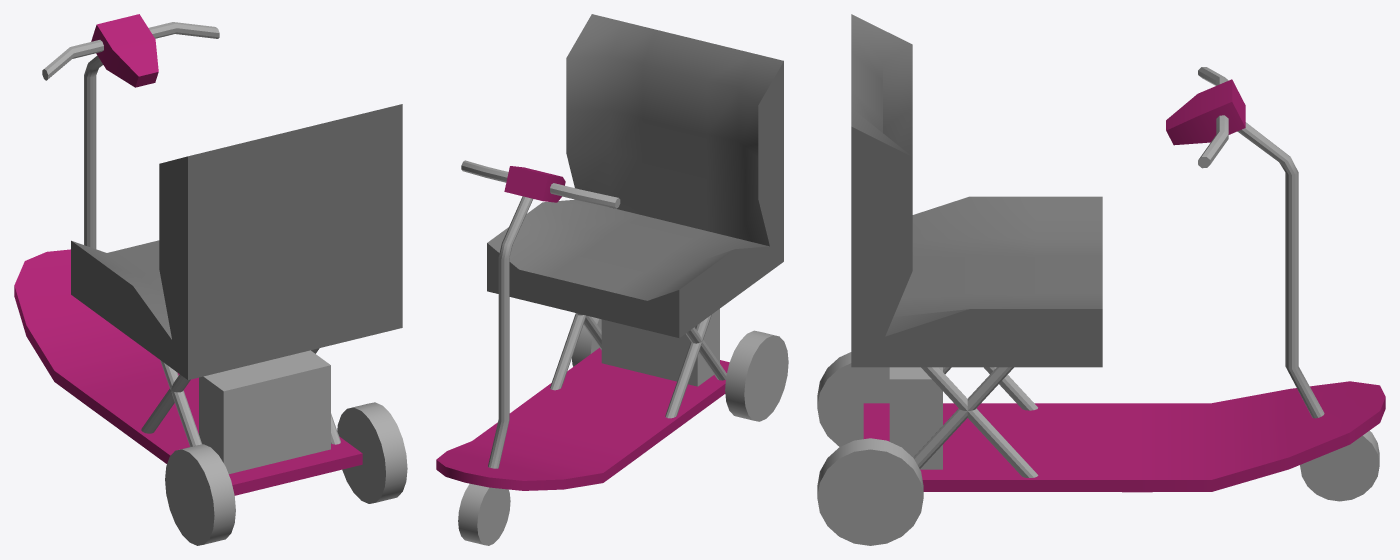
The model's file is scooter1.fbx.
The picture shows the model from 3 angles, left to right: view 1: azimuth 30°, elevation 25°; view 2: azimuth 150°, elevation 25°; view 3: azimuth 270°, elevation 25°; orthographic projection. The views are drawn at different scales.
Visible parts, largest first — view 1: pasted__pCube1, pCube1, pCube4, pCylinder1, pCylinder2, pasted__pCube5, pCylinder5, pCylinder6, pCylinder4, pasted__pCylinder4; view 2: pasted__pCube1, pCube1, pCube4, pCylinder1, pCylinder5, pCylinder3, pasted__pCube5, pCylinder6, pasted__pCylinder4, pasted__pasted__pCylinder4, pCylinder4, pCylinder2; view 3: pasted__pCube1, pCube1, pCylinder2, pCylinder1, pCylinder5, pCube4, pCylinder3, pasted__pCube5, pasted__pasted__pCylinder4, pasted__pCylinder4_ncl1_1, pCylinder6.
Part boxes in pixels (x1,y1,x2,y2): pasted__pCube1: (71,104,402,379); pCube1: (14,249,362,495); pCube4: (199,350,330,473); pCylinder1: (165,444,235,545); pCylinder2: (337,402,407,503); pasted__pCube5: (91,14,158,87); pCylinder5: (84,55,102,248); pCylinder6: (42,22,219,80); pCylinder4: (160,360,201,446); pasted__pCylinder4: (141,374,190,433); pasted__pCube1: (487,14,783,338); pCube1: (436,348,729,490); pCube4: (601,309,719,386); pCylinder1: (725,330,788,421); pCylinder5: (488,196,533,468); pCylinder3: (458,483,510,545); pasted__pCube5: (504,166,565,202); pCylinder6: (461,160,620,208); pasted__pCylinder4: (665,314,711,418); pasted__pasted__pCylinder4: (550,314,585,390); pCylinder4: (686,327,726,380); pCylinder2: (572,317,601,366); pasted__pCube1: (851,14,1102,367); pCube1: (863,381,1385,492); pCylinder2: (817,438,923,545); pCylinder1: (817,352,889,446); pCylinder5: (1237,122,1324,418); pCube4: (889,367,942,469); pCylinder3: (1300,430,1379,501); pasted__pCube5: (1166,79,1245,145); pasted__pasted__pCylinder4: (921,367,1038,477); pasted__pCylinder4_ncl1_1: (913,367,1013,468); pCylinder6: (1198,67,1228,168).
Bounding box in the file's own units: 10 × 17.64 × 21.35.
